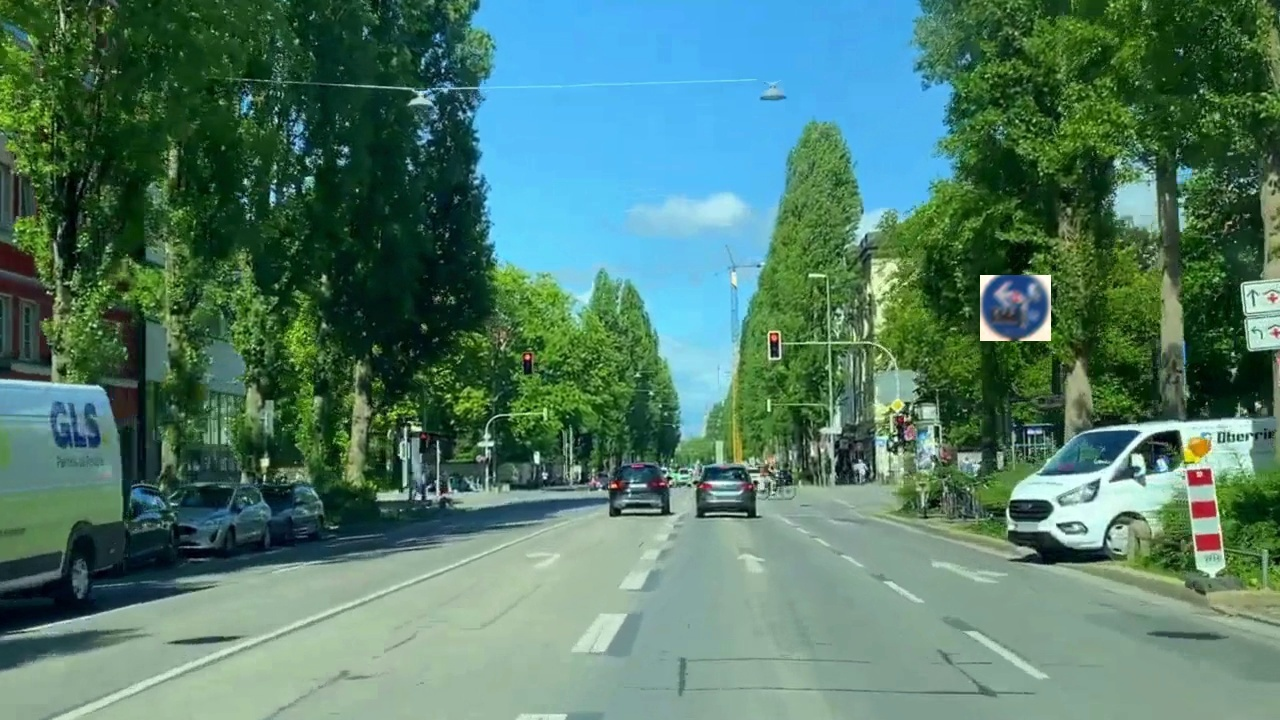Turn left: (980, 275, 1051, 341)
